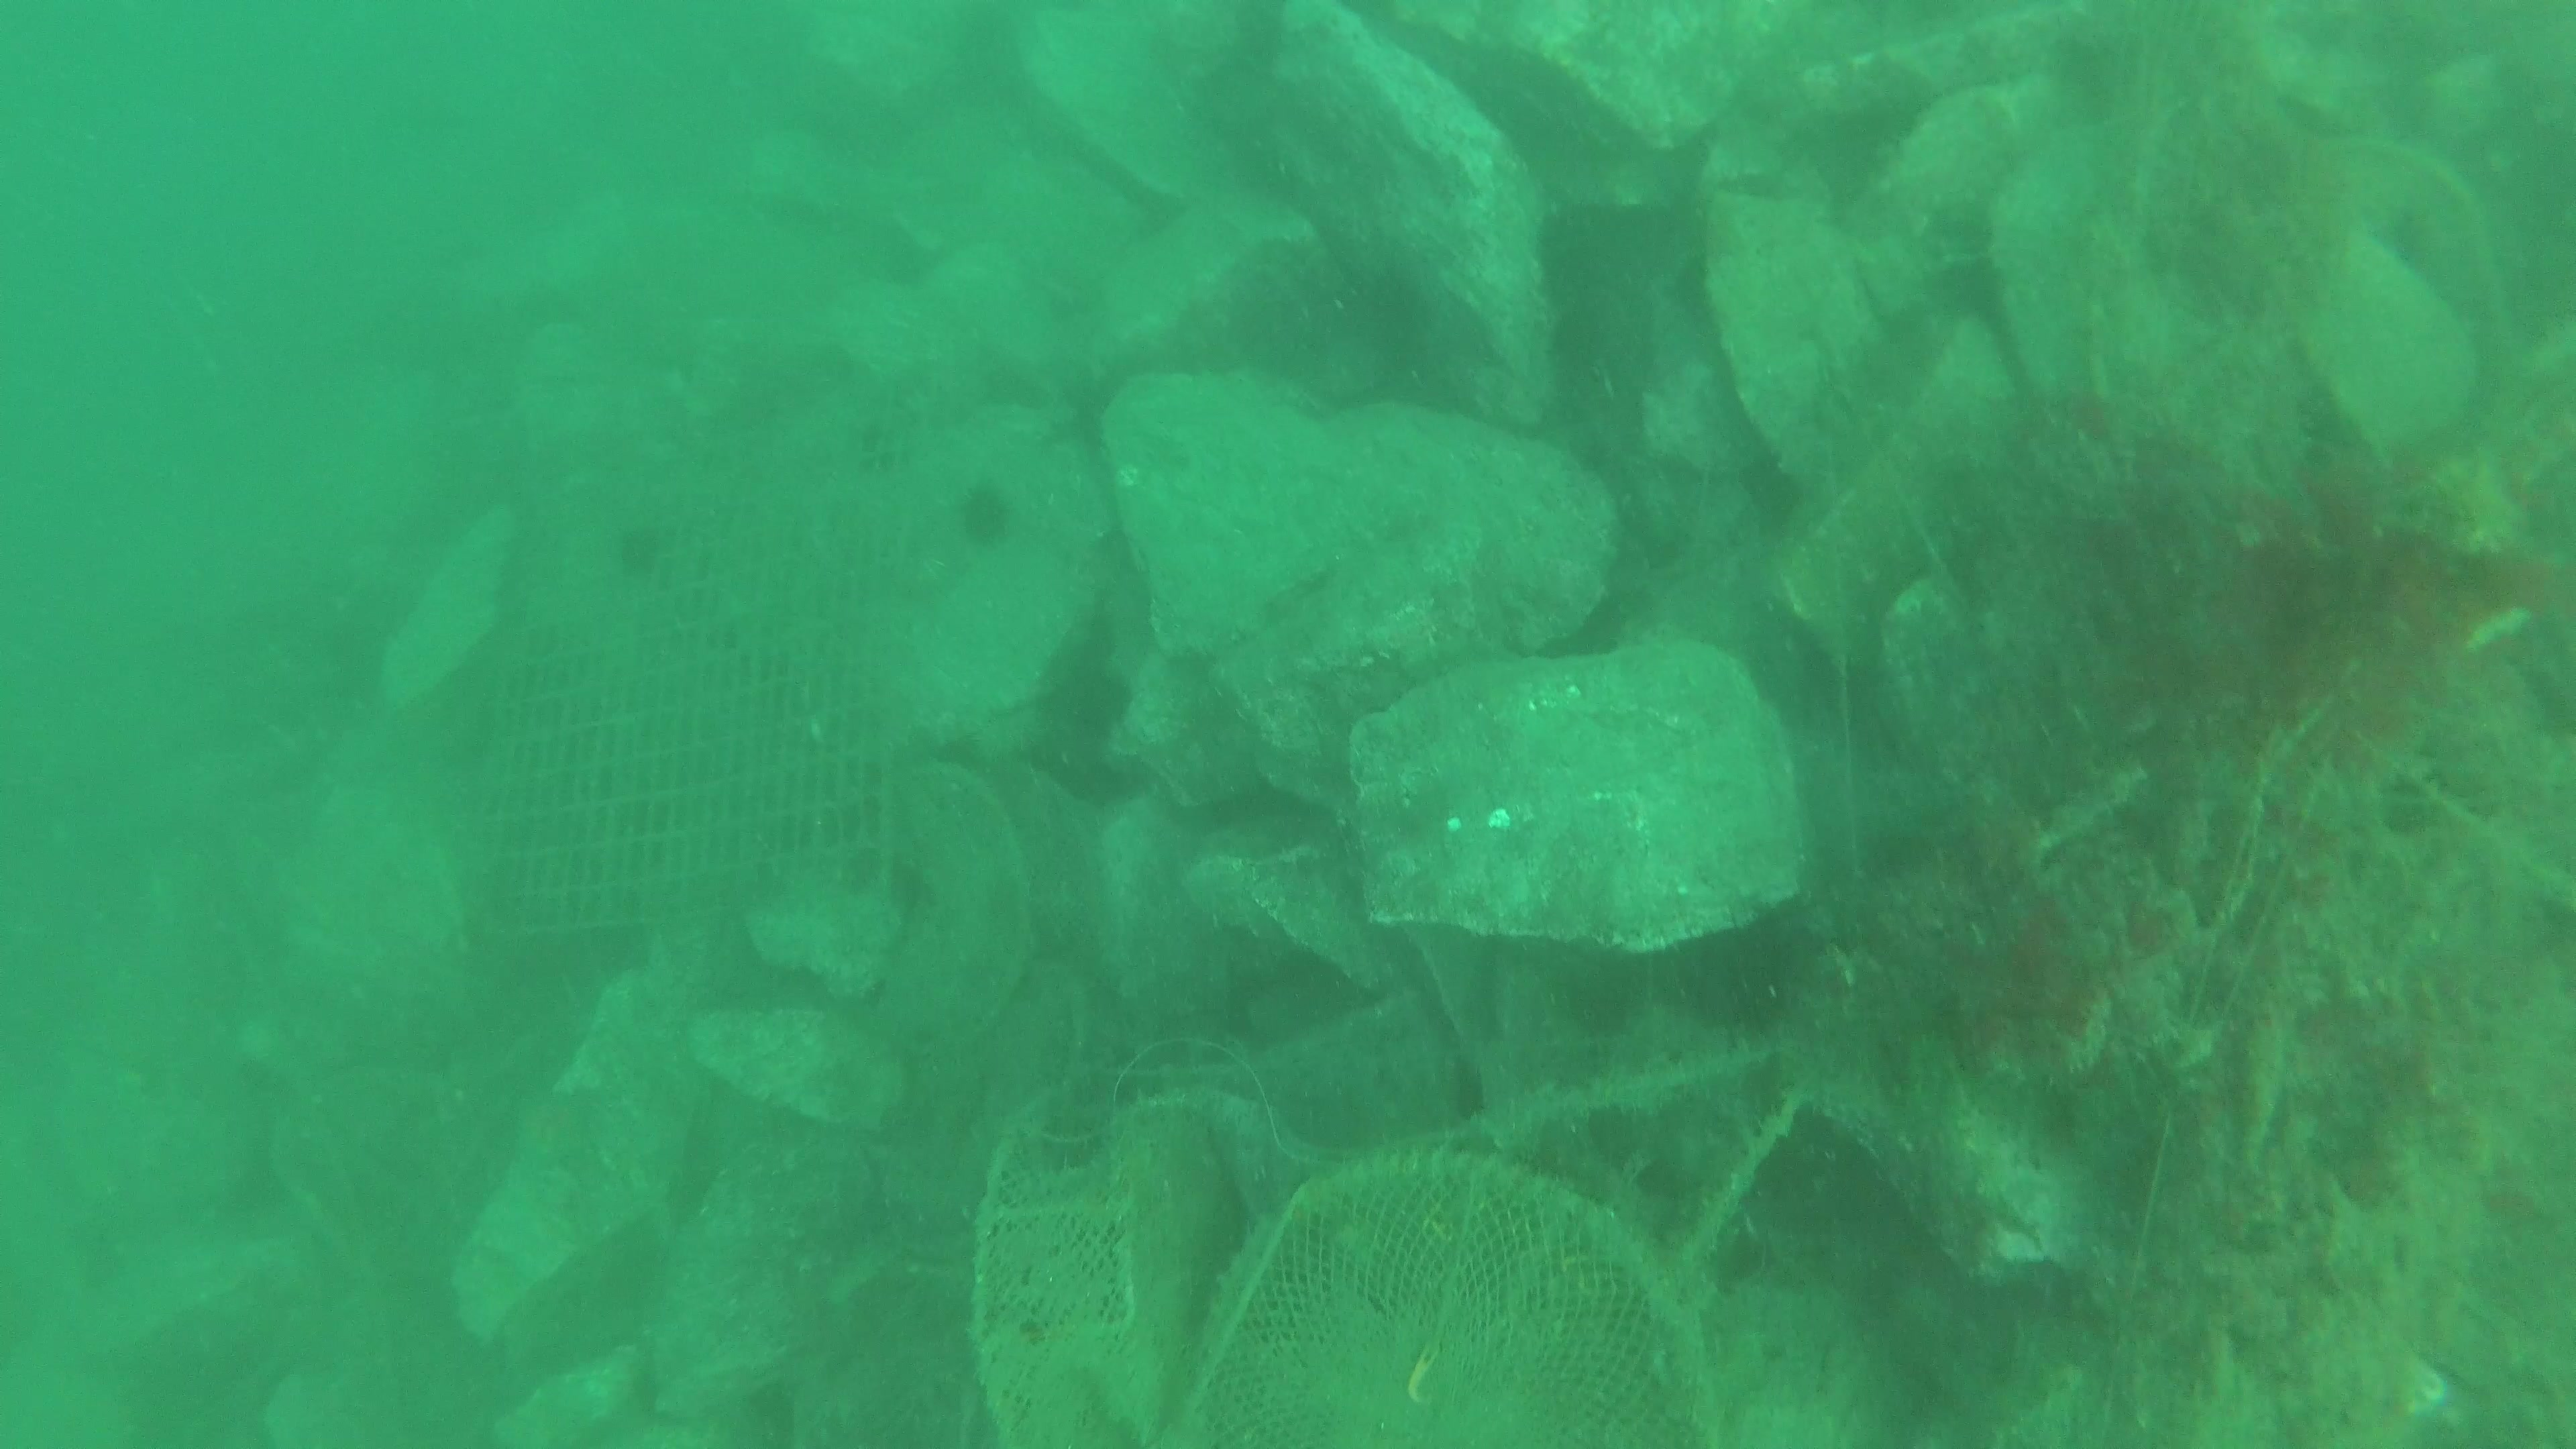echinus: (847, 419, 916, 487), (957, 478, 1024, 547), (614, 518, 679, 586)
